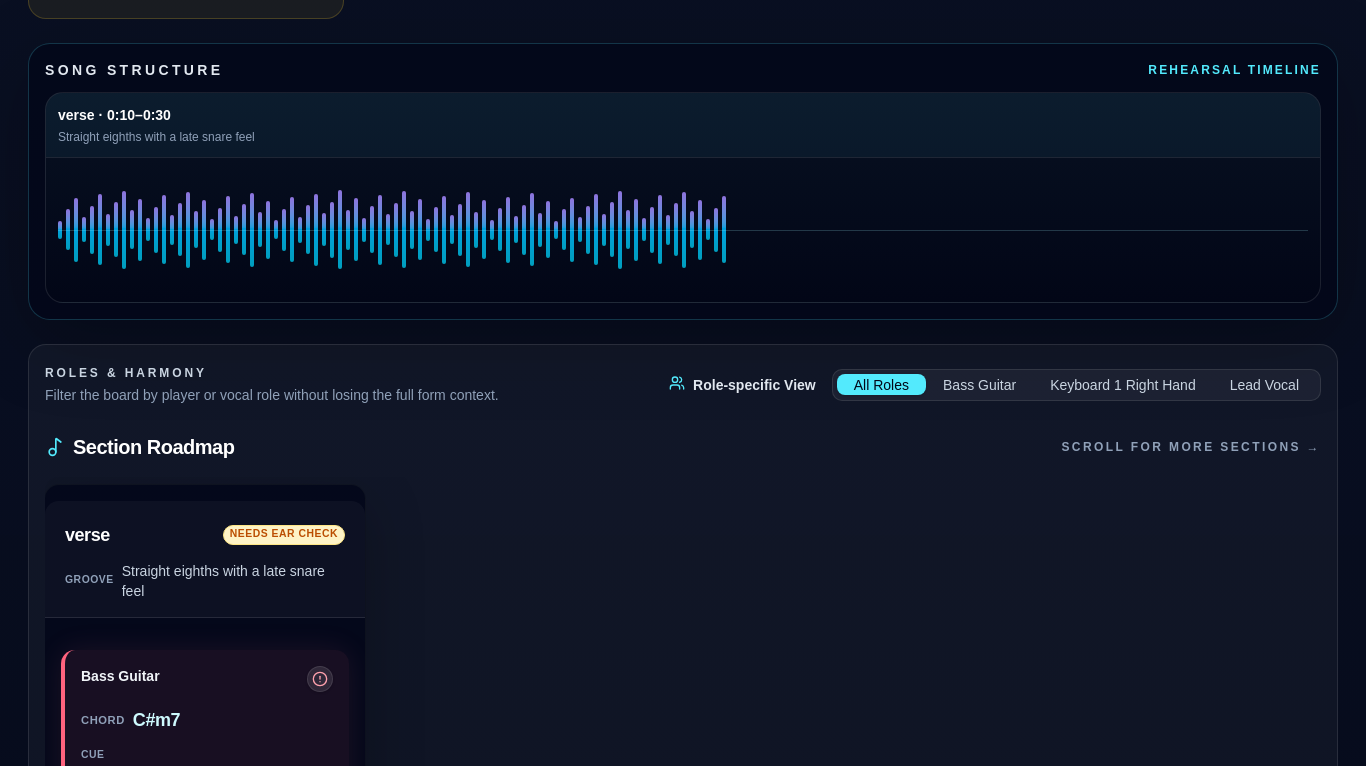
Test: Workspace › limits the range callout to the selected role
(page scrolled)
Click the tab "Lead Vocal" at (1264, 385), box [1213, 374, 1316, 395]
(page scrolled)
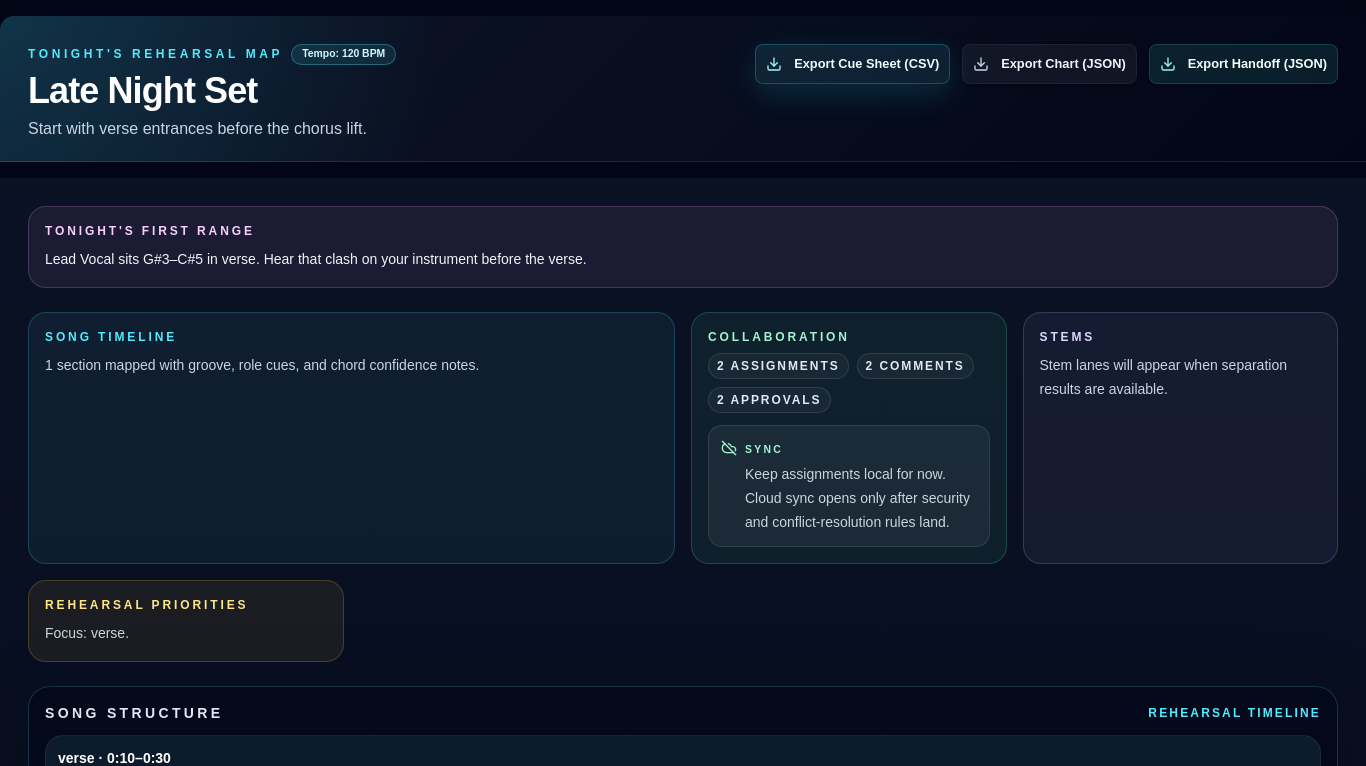
Expected: the element with test id "first-range-squeeze" shows "Lead Vocal sits G#3–C#5 in verse. Hear that clash on your instrument before the verse.", [45, 251, 587, 267]
